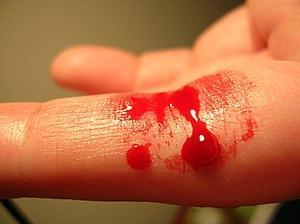Fire: (99, 71, 258, 172)
